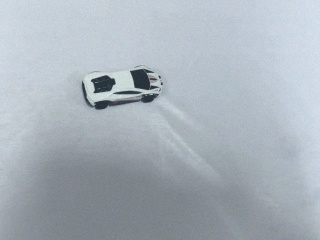toy_car: (78, 65, 164, 110)
